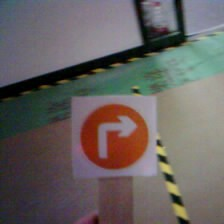right: (73, 98, 154, 176)
